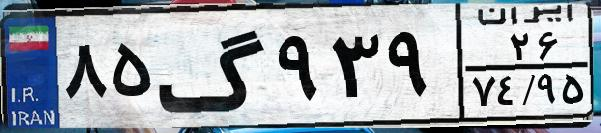2: (508, 27, 537, 80)
3: (330, 28, 385, 110)
4: (495, 70, 520, 125)
5: (110, 28, 156, 98), (560, 70, 590, 125)
6: (537, 27, 568, 80)
7: (470, 70, 495, 125)
8: (57, 26, 110, 100)
9: (270, 28, 330, 110), (385, 28, 445, 110), (535, 70, 560, 125)
گ: (156, 12, 270, 120)
